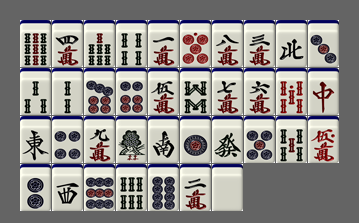0m: (308, 116, 339, 163)
0p: (180, 20, 211, 67)
0s: (276, 68, 307, 115)
1m: (148, 20, 179, 67)
1p: (180, 116, 211, 163)
1s: (116, 116, 147, 163)
1z: (20, 116, 51, 163)
2m: (180, 164, 211, 211)
2p: (20, 164, 51, 211)
2s: (52, 68, 83, 115)
2z: (148, 116, 179, 163)
3m: (244, 20, 275, 67)
3p: (308, 20, 339, 67)
3s: (20, 68, 51, 115)
3z: (52, 164, 83, 211)
4m: (52, 20, 83, 67)
4p: (52, 116, 83, 163)
4s: (116, 20, 147, 67)
4z: (276, 20, 307, 67)
5m: (148, 68, 179, 115)
5p: (244, 116, 275, 163)
5s: (276, 116, 307, 163)
5z: (212, 164, 243, 211)
6m: (244, 68, 275, 115)
6p: (116, 68, 147, 115)
6s: (116, 164, 147, 211)
6z: (212, 116, 243, 163)
7m: (212, 68, 243, 115)
7p: (84, 68, 115, 115)
7s: (84, 20, 115, 67)
7z: (308, 68, 339, 115)
8m: (212, 20, 243, 67)
8p: (148, 164, 179, 211)
8s: (180, 68, 211, 115)
9m: (84, 116, 115, 163)
9p: (84, 164, 115, 211)
9s: (20, 20, 51, 67)
